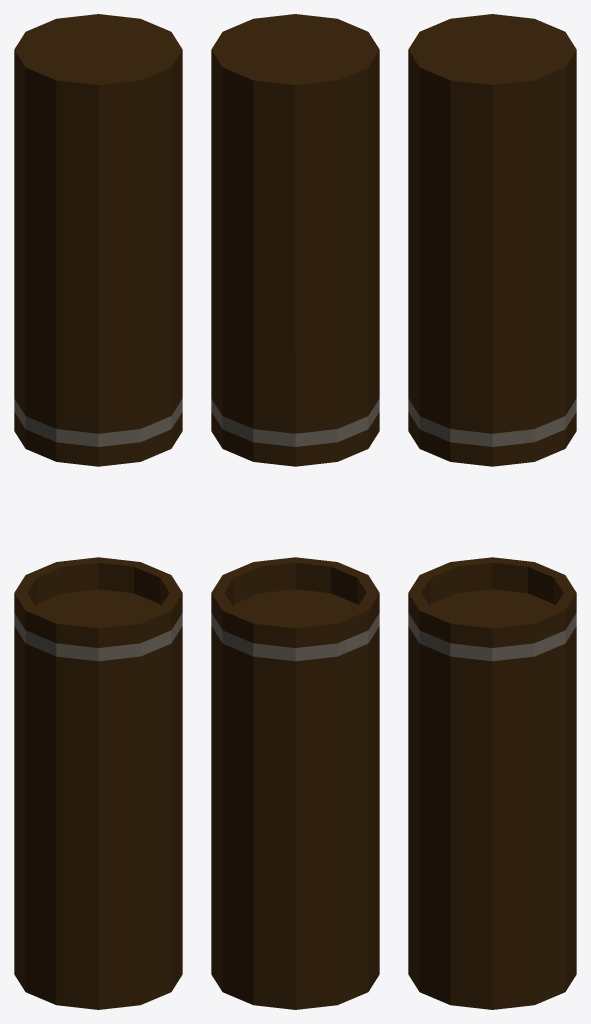
Rendered from Bird Pipe Assets.fbx.
The picture shows the model from 3 angles, left to right: view 1: azimuth 30°, elevation 25°; view 2: azimuth 150°, elevation 25°; view 3: azimuth 270°, elevation 25°; orthographic projection.
Parts seen in each view (by area): view 1: pipe; view 2: pipe; view 3: pipe.
Boxes of the visible parts, left/top/right/bottom form: pipe: left=14, top=14, right=182, bottom=1009; pipe: left=211, top=14, right=379, bottom=1009; pipe: left=408, top=14, right=576, bottom=1009.
Size of the model in its own units: 200 by 1212 by 200.
